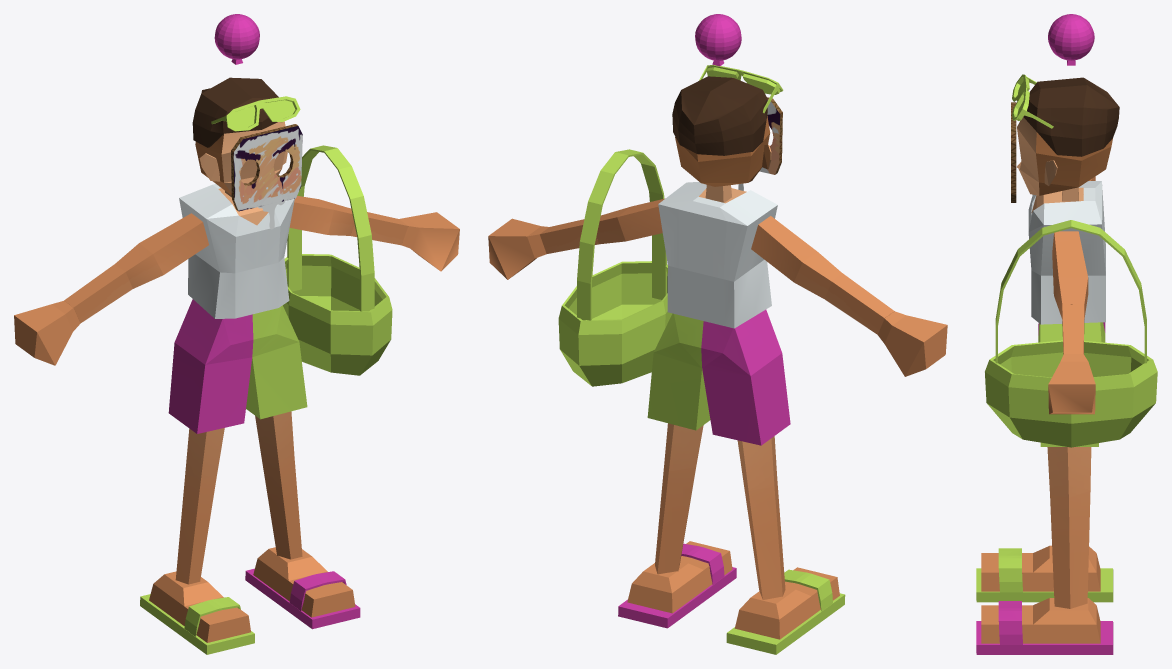
Rendered from Range Zombie 2.glb.
3 renders of one model, left to right at view 1: azimuth 30°, elevation 25°; view 2: azimuth 150°, elevation 25°; view 3: azimuth 270°, elevation 25°, orthographic. The views are drawn at different scales.
Parts seen in each view (by area): view 1: Cloth_Body, Cube, Right_Legging, Plane, sling, Left_Legging, Upper_Right_Arm, Right_Foot, Left_Foot, Hair, Lower_Right_Leg, Lower_Left_Leg (+15 smaller); view 2: Cloth_Body, Cube, Hair, Right_Legging, sling, Left_Legging, Upper_Right_Arm, Right_Foot, Left_Foot, Lower_Right_Leg, Right_Hand, Lower_Left_Leg (+15 smaller); view 3: Cube, Cloth_Body, Hair, Lower_Left_Leg, Left_Foot, Head, Left__Flipflop.002, Right__Flipflop.001, Right_Foot, Left_Hand, Upper_Left_Arm, Upper_Left_Leg (+7 smaller).
Part boxes in pixels (x1=…): Cloth_Body: x1=179, y1=184, x2=294, y2=318; Cube: x1=283, y1=254, x2=392, y2=375; Right_Legging: x1=168, y1=342, x2=252, y2=433; Plane: x1=231, y1=124, x2=302, y2=211; sling: x1=287, y1=145, x2=374, y2=311; Left_Legging: x1=246, y1=342, x2=307, y2=419; Upper_Right_Arm: x1=114, y1=213, x2=208, y2=288; Right_Foot: x1=149, y1=571, x2=250, y2=642; Left_Foot: x1=253, y1=547, x2=355, y2=617; Hair: x1=192, y1=77, x2=278, y2=147; Lower_Right_Leg: x1=175, y1=474, x2=216, y2=584; Lower_Left_Leg: x1=261, y1=456, x2=302, y2=559; Cloth_Body: x1=658, y1=182, x2=777, y2=328; Cube: x1=558, y1=261, x2=672, y2=386; Hair: x1=672, y1=76, x2=767, y2=155; Right_Legging: x1=702, y1=353, x2=790, y2=445; sling: x1=577, y1=149, x2=666, y2=320; Left_Legging: x1=647, y1=352, x2=710, y2=430; Upper_Right_Arm: x1=751, y1=216, x2=841, y2=298; Right_Foot: x1=734, y1=567, x2=839, y2=639; Left_Foot: x1=627, y1=541, x2=732, y2=613; Lower_Right_Leg: x1=743, y1=478, x2=785, y2=599; Right_Hand: x1=877, y1=311, x2=947, y2=376; Lower_Left_Leg: x1=655, y1=460, x2=695, y2=574; Cube: x1=985, y1=340, x2=1157, y2=447; Cloth_Body: x1=1028, y1=181, x2=1105, y2=324; Hair: x1=1023, y1=77, x2=1119, y2=156; Lower_Left_Leg: x1=1050, y1=490, x2=1090, y2=608; Left_Foot: x1=981, y1=598, x2=1100, y2=643; Head: x1=1017, y1=117, x2=1112, y2=195; Left__Flipflop.002: x1=976, y1=601, x2=1113, y2=654; Right__Flipflop.001: x1=976, y1=548, x2=1113, y2=602; Right_Foot: x1=981, y1=545, x2=1100, y2=591; Left_Hand: x1=1048, y1=354, x2=1095, y2=414; Upper_Left_Arm: x1=1052, y1=231, x2=1088, y2=318; Upper_Left_Leg: x1=1047, y1=447, x2=1091, y2=497.
Bounding box in the file's own units: 1.56 × 2.07 × 0.5666.
11 materials, 11 textured.
